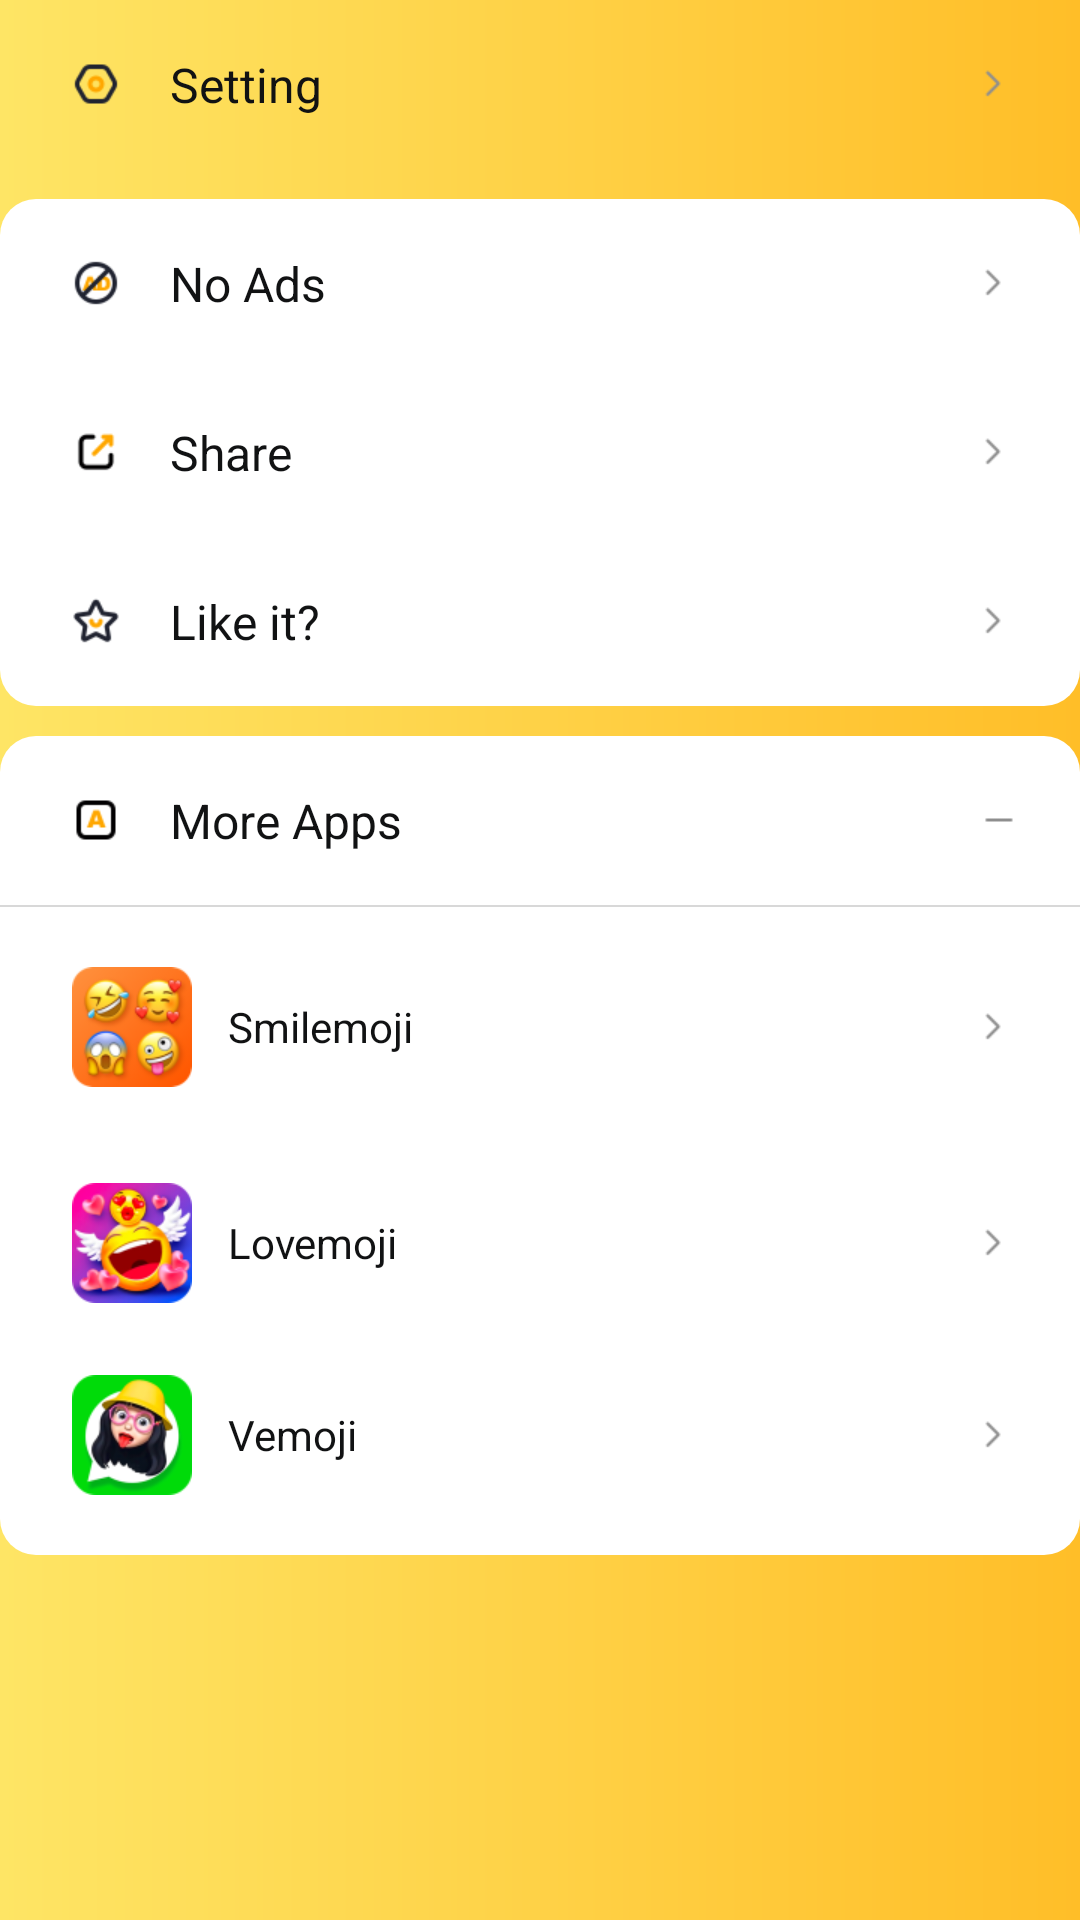

Screen size 1080 x 1920. Icon name, then its center in pixels as point (x, y):
mip drawer app: point (96, 820)
mip drawer like: point (96, 621)
